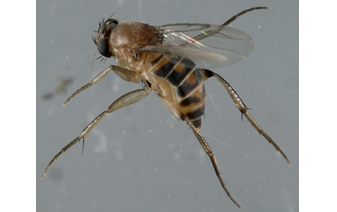phorid fly: (40, 4, 293, 209)
